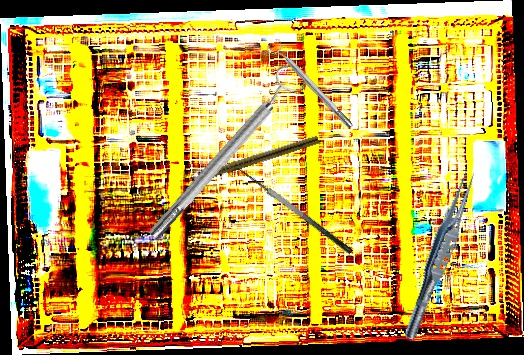Fixation Ring: (138, 62, 310, 247), (264, 36, 358, 134)
Handpiece: (190, 132, 320, 185)
Spatula Surgical: (228, 160, 354, 265)
Tissue Forceps: (399, 166, 481, 344)
